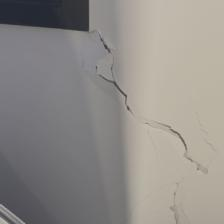Medium: (94, 35, 206, 169)
